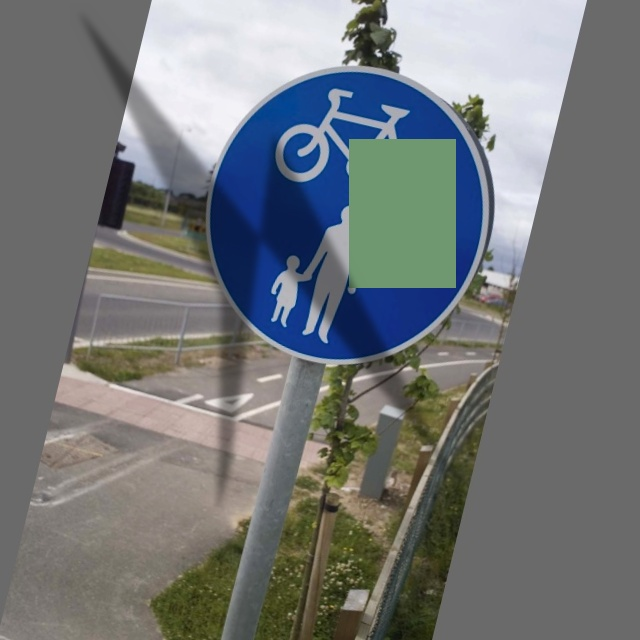Compulsory_Cycle_Track: (185, 37, 523, 382)
